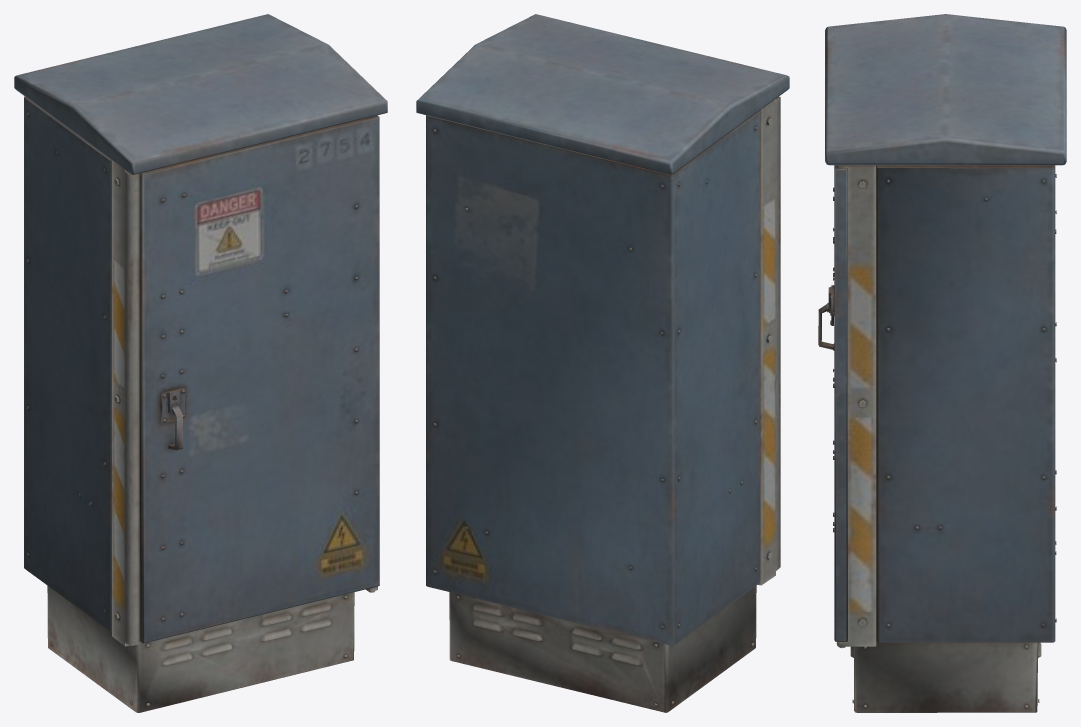
Rendered from utility_box.glb.
3 views of the same model, side by side, from view 1: azimuth 30°, elevation 25°; view 2: azimuth 150°, elevation 25°; view 3: azimuth 270°, elevation 25° (orthographic).
Parts seen in each view (by area): view 1: utility_box_01_box; view 2: utility_box_01_box; view 3: utility_box_01_box.
Part boxes in pixels (box(x1,y1,x2,y2)): utility_box_01_box: box(14, 14, 387, 712); utility_box_01_box: box(416, 14, 789, 712); utility_box_01_box: box(818, 14, 1066, 712).
Bounding box in the file's own units: 0.52 × 1.12 × 0.432.
Materials: 1 (1 with a texture image).
